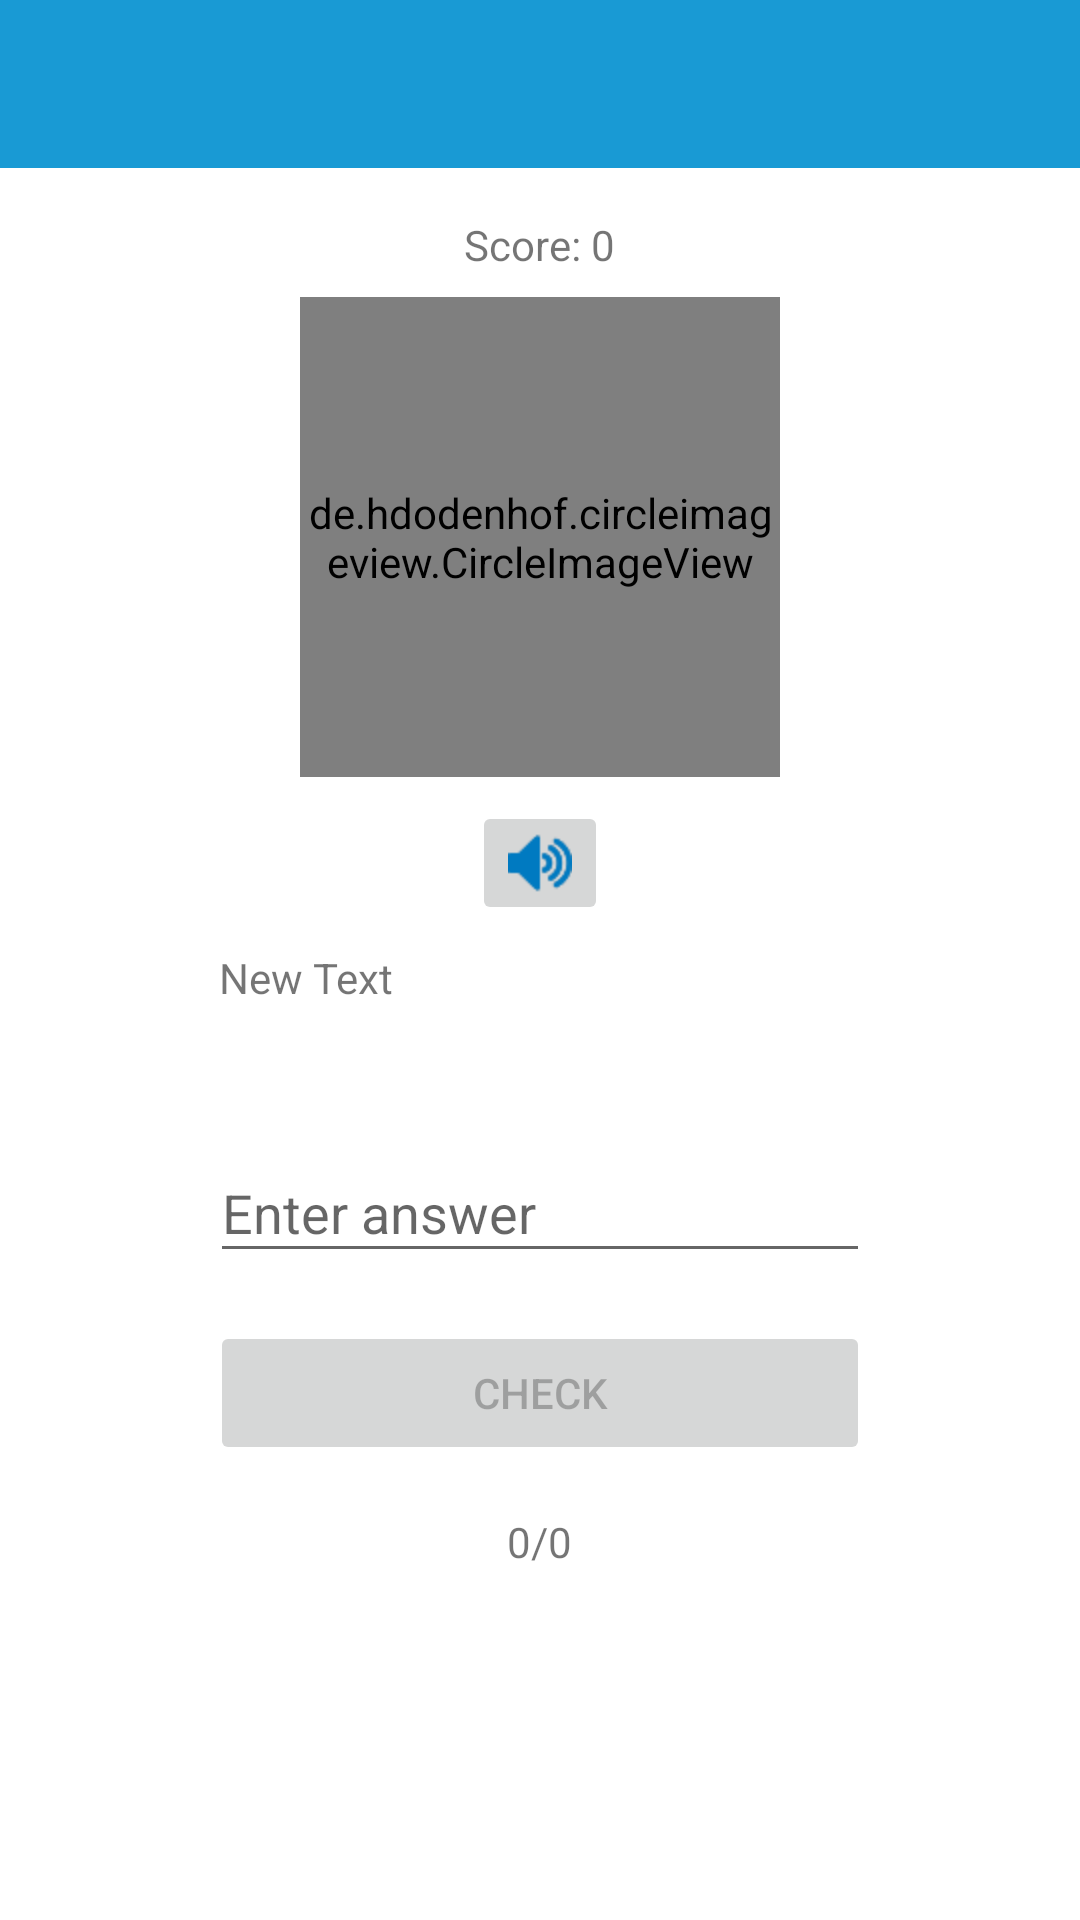

Point at icon controls on the screen. Image size 1080×1920, points as (x,y).
third volume: (540,863)
